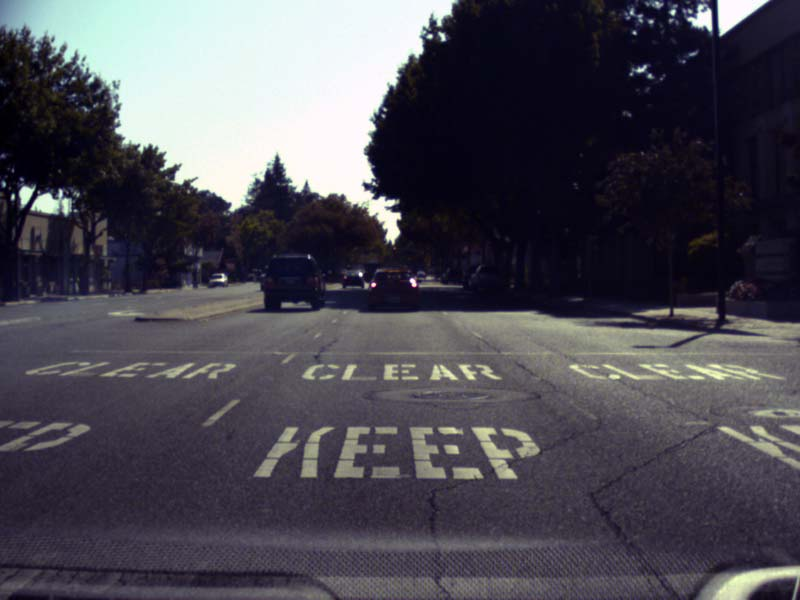Green: (345, 255, 351, 268)
Red: (429, 260, 436, 265)
Yellow: (391, 245, 396, 254), (438, 258, 442, 262)
